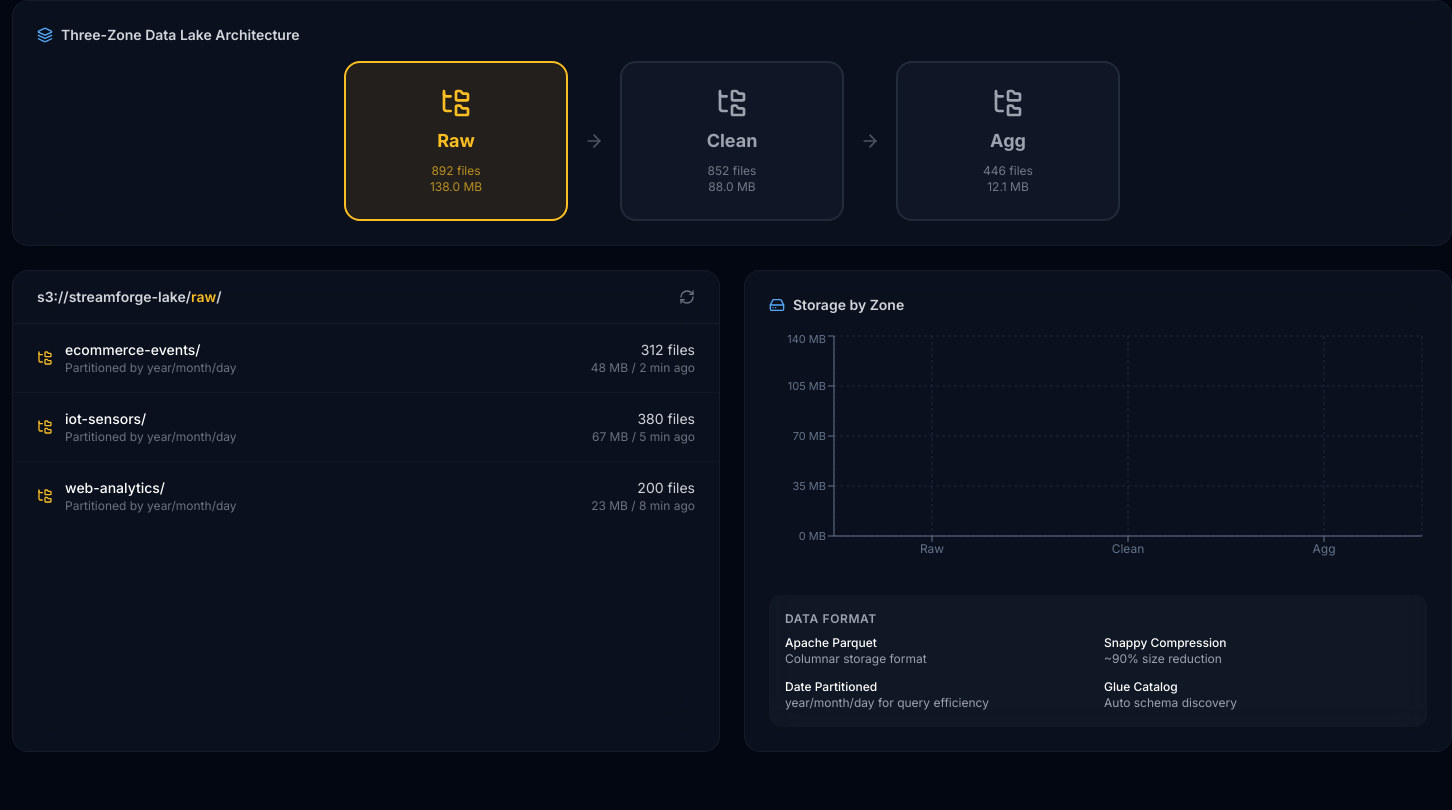
Scenario: DataExplorer › clicking agg zone updates file browser with agg data
Click the text "agg" at x=1008, y=141, box x1=990 y1=127 x2=1026 y2=155
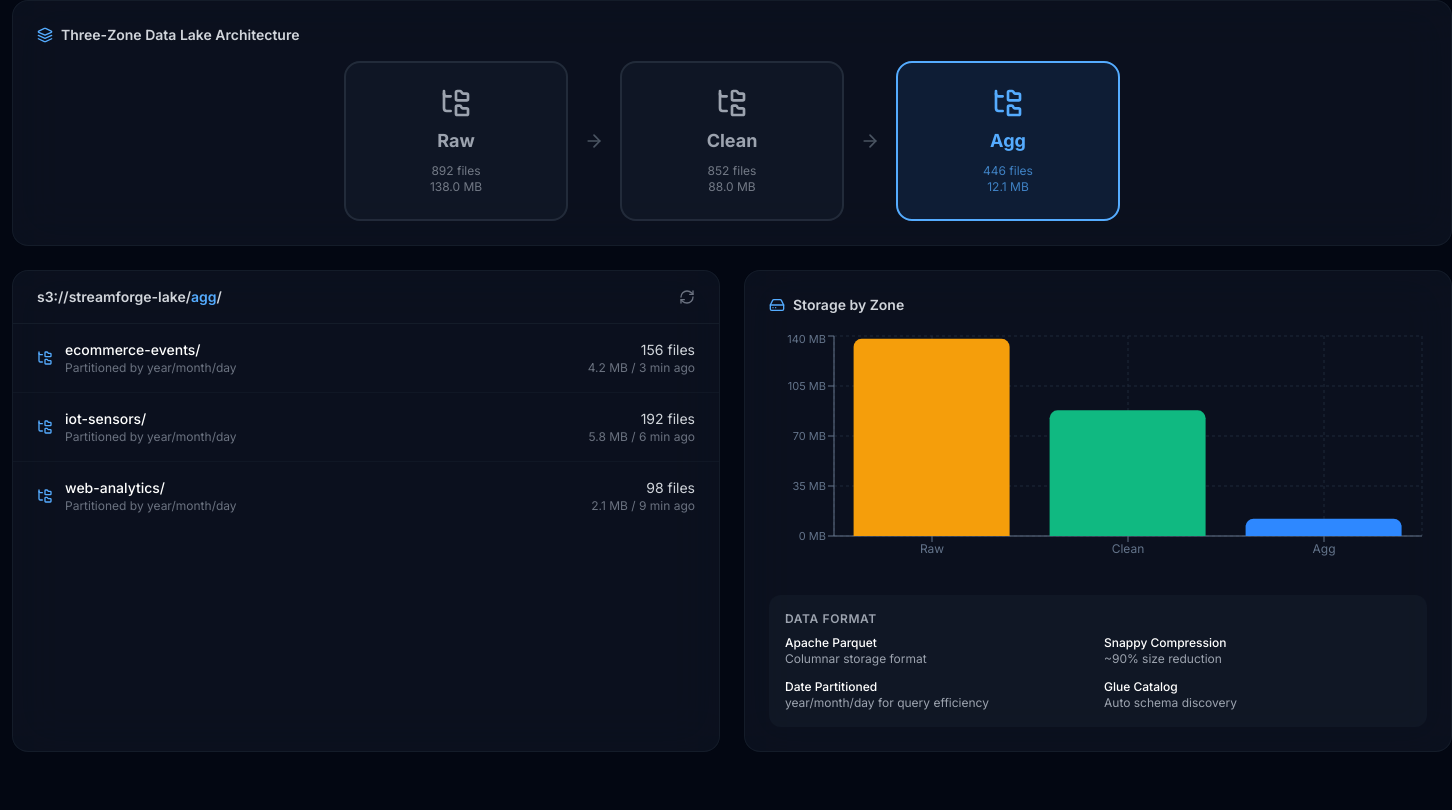
Now the text "156 files" is shown, box x1=641 y1=341 x2=695 y2=358
Now the text "192 files" is shown, box x1=641 y1=410 x2=695 y2=427
Now the text "98 files" is shown, box x1=646 y1=479 x2=695 y2=496
